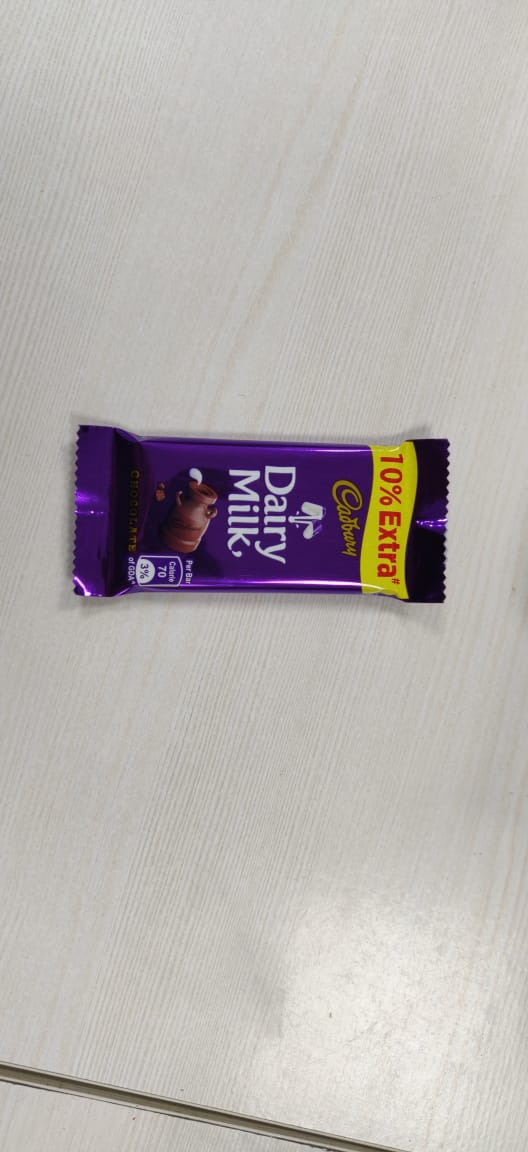dairy milk: (54, 409, 471, 630)
